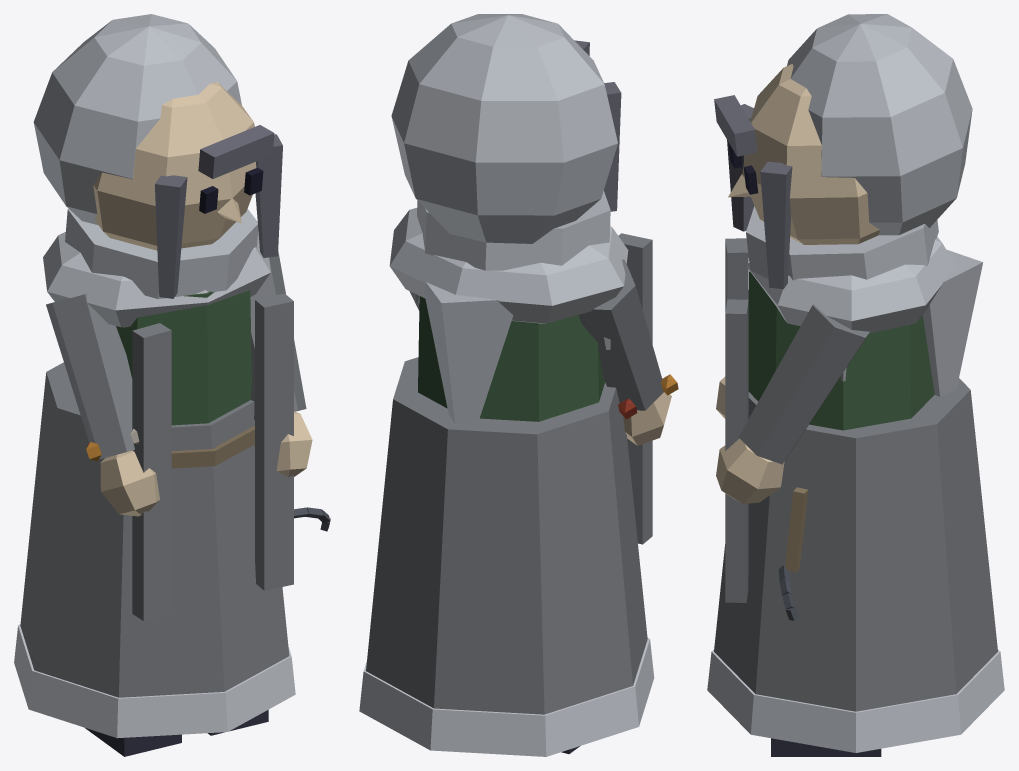
File: hesper.glb
3 views of the same model, side by side, from view 1: azimuth 30°, elevation 25°; view 2: azimuth 150°, elevation 25°; view 3: azimuth 270°, elevation 25° (orthographic). The views are drawn at different scales.
Parts seen in each view (by area): view 1: Torso, Head, ArmR, ArmL, LegR; view 2: Torso, Head, ArmR; view 3: Torso, Head, ArmL, LegL.
Boxes of the visible parts, x1,y1,x2,y2 form: Torso: [14, 231, 330, 738]; Head: [33, 14, 282, 299]; ArmR: [46, 294, 159, 516]; ArmL: [250, 251, 312, 476]; LegR: [85, 728, 181, 756]; Torso: [359, 208, 654, 756]; Head: [391, 14, 621, 270]; ArmR: [578, 259, 678, 445]; Torso: [707, 237, 1004, 752]; Head: [714, 14, 972, 289]; ArmL: [716, 304, 869, 503]; LegL: [771, 738, 881, 756].
Size of the model in its own units: 0.7491 by 1.81 by 0.7.
